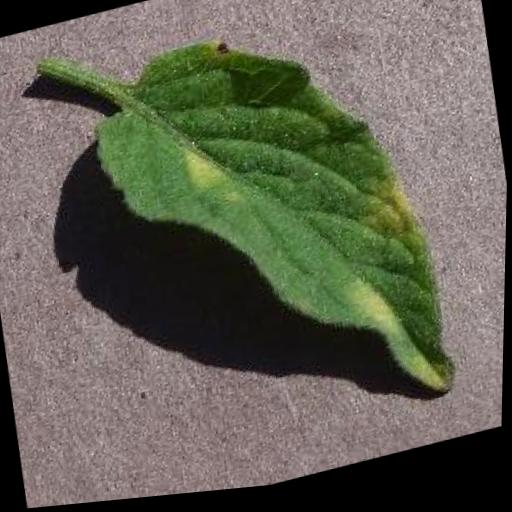Leaf Mold: (77, 0, 466, 479)
